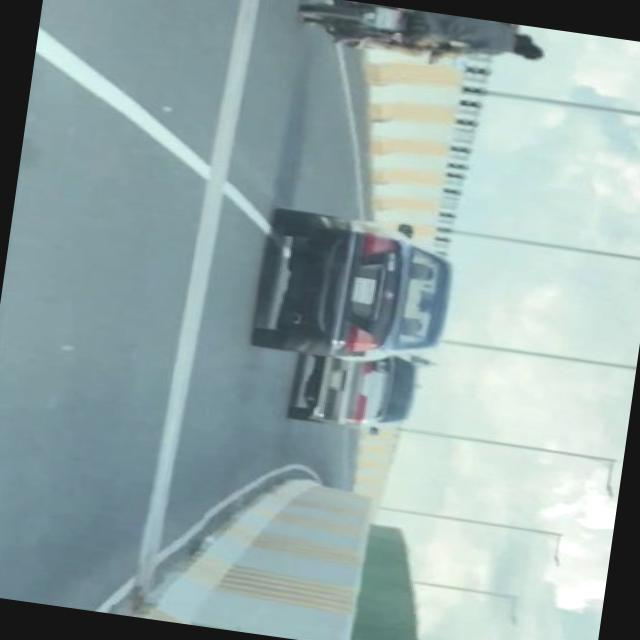car: (248, 204, 462, 372), (288, 346, 423, 439)
motorcycle: (296, 0, 542, 76)
